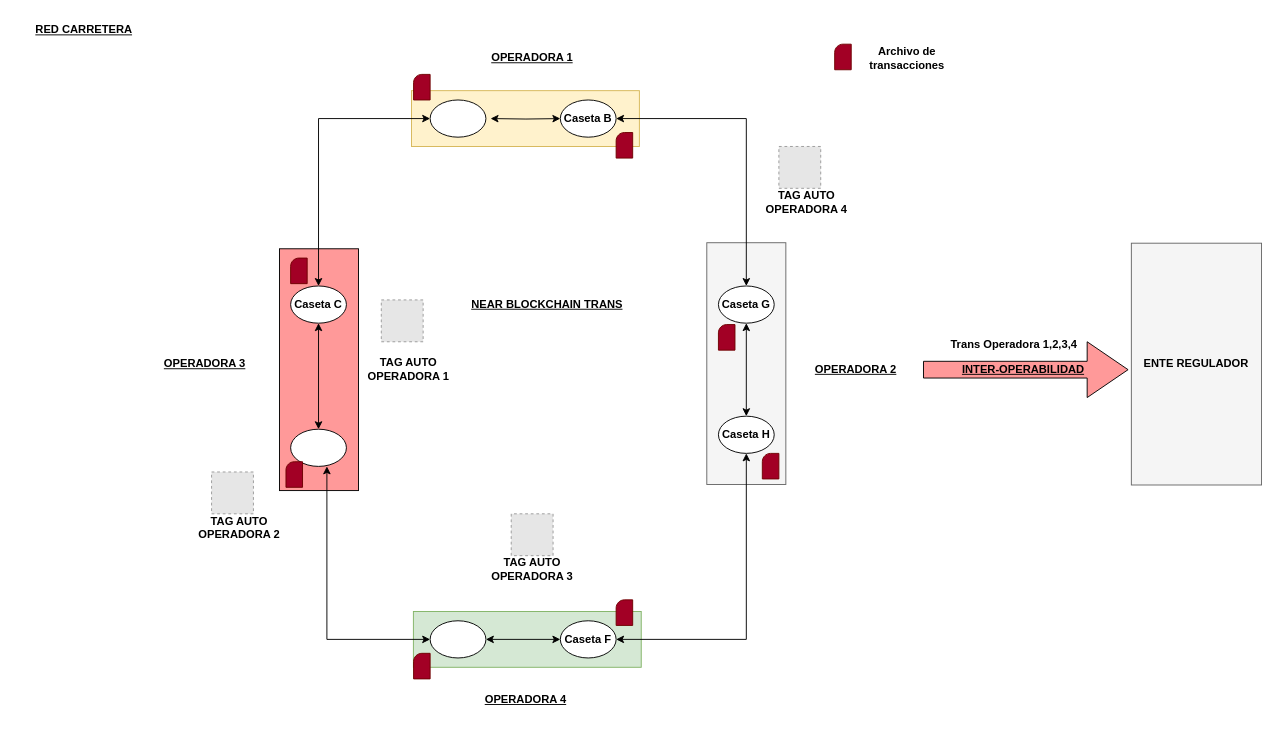
Image size: 1278x729. Some labels were removed from this diagram. Grey dashed boxes stand in for pictures. Here are the shapes that lost their labels. From the top down, the centre of each, then its label:
At pixel 457 118: "Caseta A".
At pixel 318 447: "Caseta D".
At pixel 457 639: "Caseta E".
